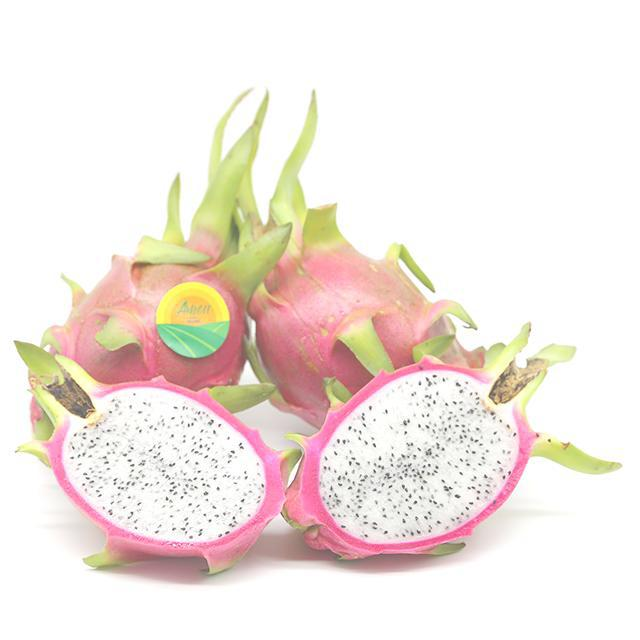trang: (26, 93, 290, 435), (286, 315, 552, 569), (230, 148, 483, 414), (28, 361, 292, 578)
